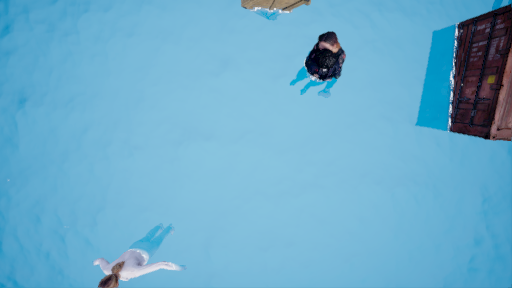person: (86, 222, 182, 288), (293, 36, 349, 107)
